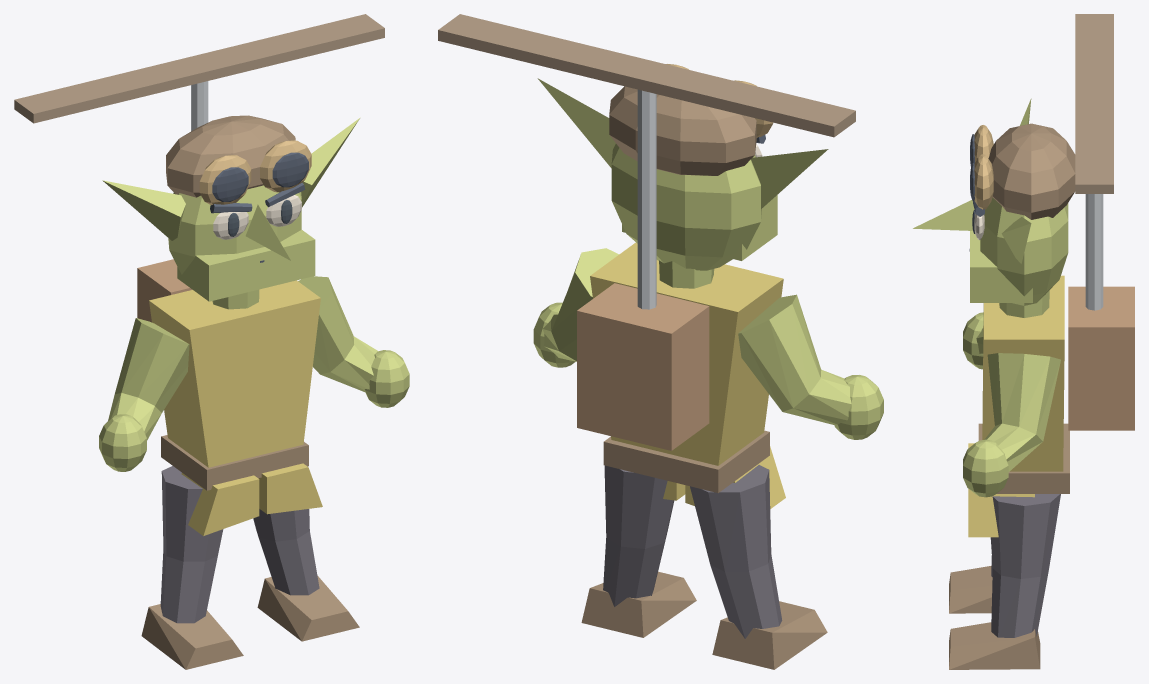
Rendered from rotor-scout.glb.
3 views of the same model, side by side, from view 1: azimuth 30°, elevation 25°; view 2: azimuth 150°, elevation 25°; view 3: azimuth 270°, elevation 25° (orthographic). The views are drawn at different scales.
Visible parts, largest first — view 1: torso, propeller, leg_-1, arm_-1, leather_cap, jaw, arm_1, head, leg_1, foot_-1, foot_1, belt (+16 smaller); view 2: rotor_pack, propeller, torso, head, leg_-1, leather_cap, arm_-1, leg_1, belt, rotor_mast, foot_-1, foot_1 (+8 smaller); view 3: rotor_pack, leg_1, propeller, torso, leather_cap, arm_1, head, foot_1, rotor_mast, hand_1, jaw, foot_-1 (+8 smaller).
Part boxes in pixels (left/top/right/bottom): torso: left=149, top=280, right=320, bottom=467; propeller: left=14, top=14, right=384, bottom=123; leg_-1: left=160, top=466, right=223, bottom=623; arm_-1: left=108, top=318, right=189, bottom=440; leather_cap: left=166, top=115, right=295, bottom=197; jaw: left=177, top=229, right=315, bottom=301; arm_1: left=298, top=276, right=377, bottom=392; head: left=168, top=185, right=301, bottom=274; leg_1: left=253, top=466, right=319, bottom=595; foot_-1: left=141, top=604, right=243, bottom=669; foot_1: left=257, top=575, right=359, bottom=641; belt: left=161, top=435, right=308, bottom=490; rotor_pack: left=577, top=283, right=709, bottom=450; propeller: left=438, top=14, right=855, bottom=137; torso: left=590, top=242, right=783, bottom=465; head: left=611, top=144, right=761, bottom=270; leg_-1: left=690, top=465, right=782, bottom=638; leather_cap: left=609, top=86, right=756, bottom=175; arm_-1: left=738, top=294, right=851, bottom=425; leg_1: left=603, top=465, right=674, bottom=606; belt: left=603, top=430, right=769, bottom=492; rotor_mast: left=637, top=89, right=656, bottom=309; foot_-1: left=712, top=601, right=827, bottom=669; foot_1: left=581, top=571, right=696, bottom=637; rotor_pack: left=1068, top=286, right=1134, bottom=430; leg_1: left=990, top=494, right=1060, bottom=637; propeller: left=1075, top=14, right=1113, bottom=193; torso: left=982, top=275, right=1064, bottom=471; leather_cap: left=988, top=123, right=1075, bottom=219; arm_1: left=984, top=353, right=1060, bottom=471; head: left=980, top=197, right=1068, bottom=305; foot_1: left=949, top=622, right=1040, bottom=669; rotor_mast: left=1085, top=194, right=1103, bottom=310; hand_1: left=963, top=439, right=1008, bottom=497; jaw: left=970, top=231, right=1032, bottom=302; foot_-1: left=949, top=565, right=992, bottom=613.
Bounding box in the file's own units: 0.7271 × 1.05 × 0.4015.
